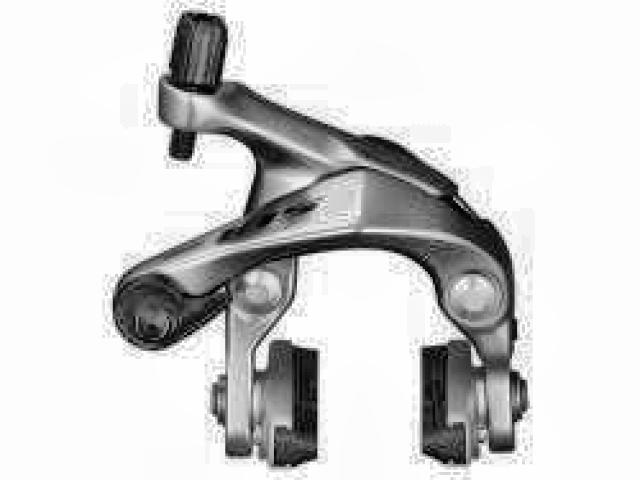rim_brake: (111, 6, 529, 469)
